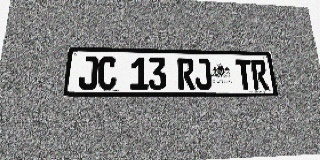1: (131, 57, 148, 90)
3: (149, 57, 166, 90)
C: (97, 57, 117, 90)
J: (78, 56, 98, 90), (194, 58, 212, 90)
R: (177, 58, 195, 90), (250, 60, 269, 90)
T: (235, 59, 254, 90)
